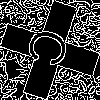C: (25, 25, 80, 73)
